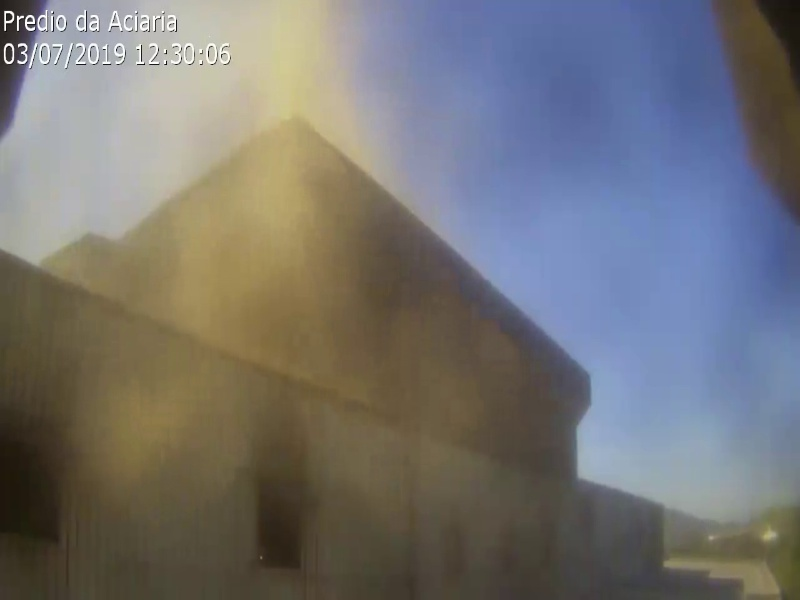Pessimo: (325, 25, 388, 134), (294, 253, 357, 362), (240, 276, 303, 385), (263, 1, 326, 109), (191, 200, 261, 266), (245, 212, 315, 278), (195, 255, 265, 321), (128, 361, 198, 427), (246, 137, 316, 203)
